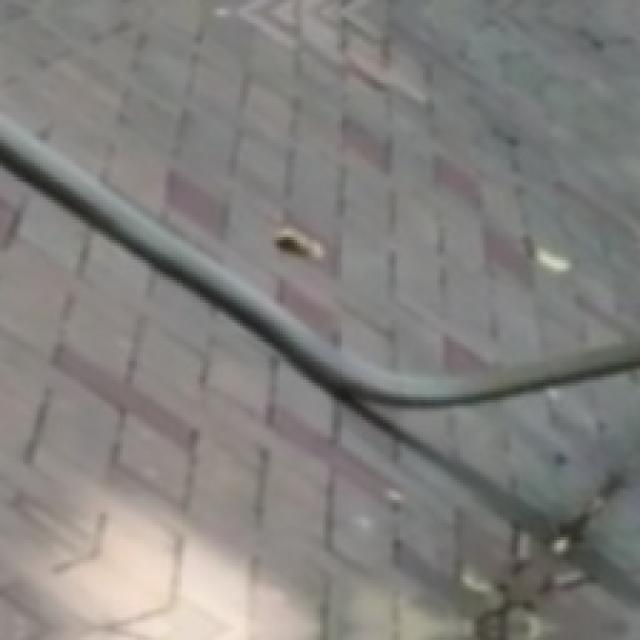king cobra: (0, 116, 640, 406)
